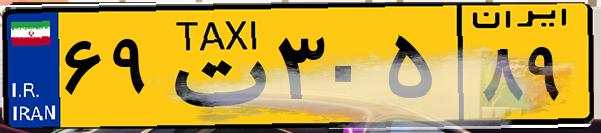0: (330, 28, 385, 110)
3: (270, 28, 330, 110)
5: (385, 28, 445, 110)
6: (57, 26, 110, 100)
8: (475, 38, 525, 113)
9: (525, 38, 570, 115), (110, 28, 158, 98)
ت: (158, 12, 270, 120)
